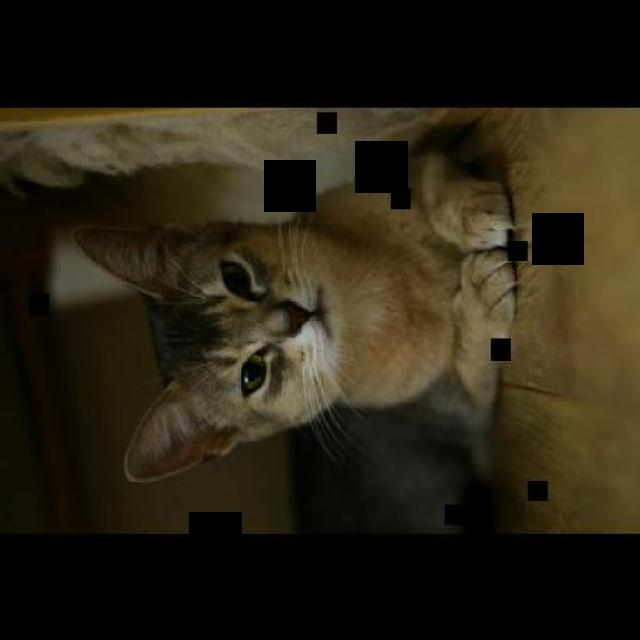unauthorized: (72, 123, 528, 486)
